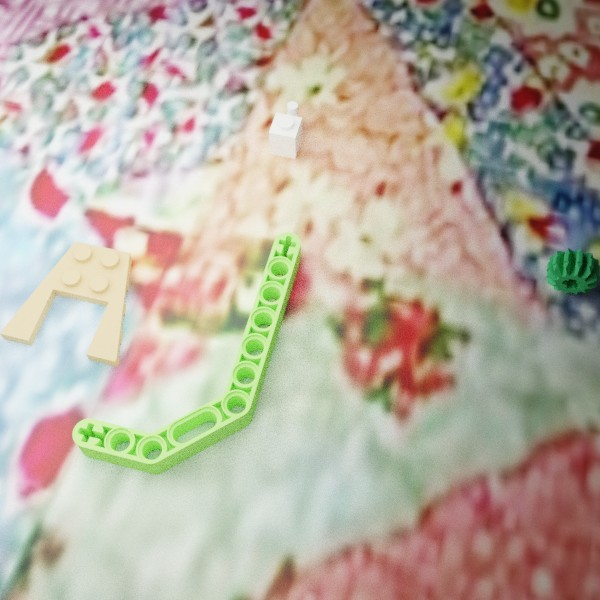lego: (72, 232, 300, 474), (0, 241, 132, 366), (546, 248, 600, 294), (268, 101, 302, 159)
